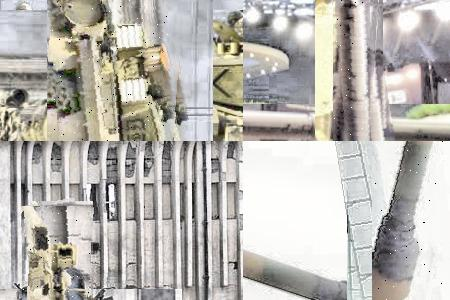tanks: (48, 1, 179, 142), (374, 142, 431, 300), (24, 208, 82, 300), (343, 1, 370, 142)
